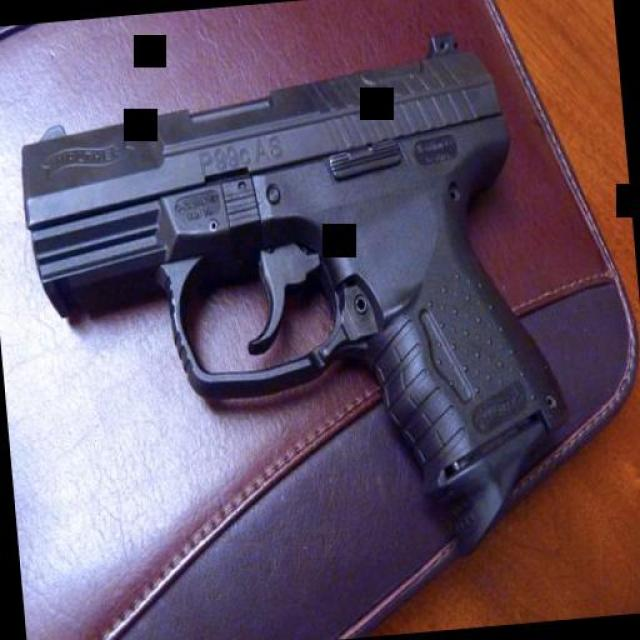gun: (11, 20, 580, 594)
